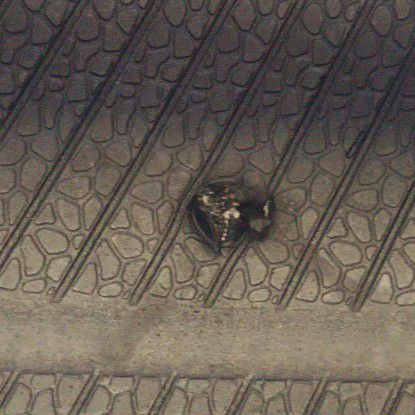CBU: (189, 175, 278, 260)
